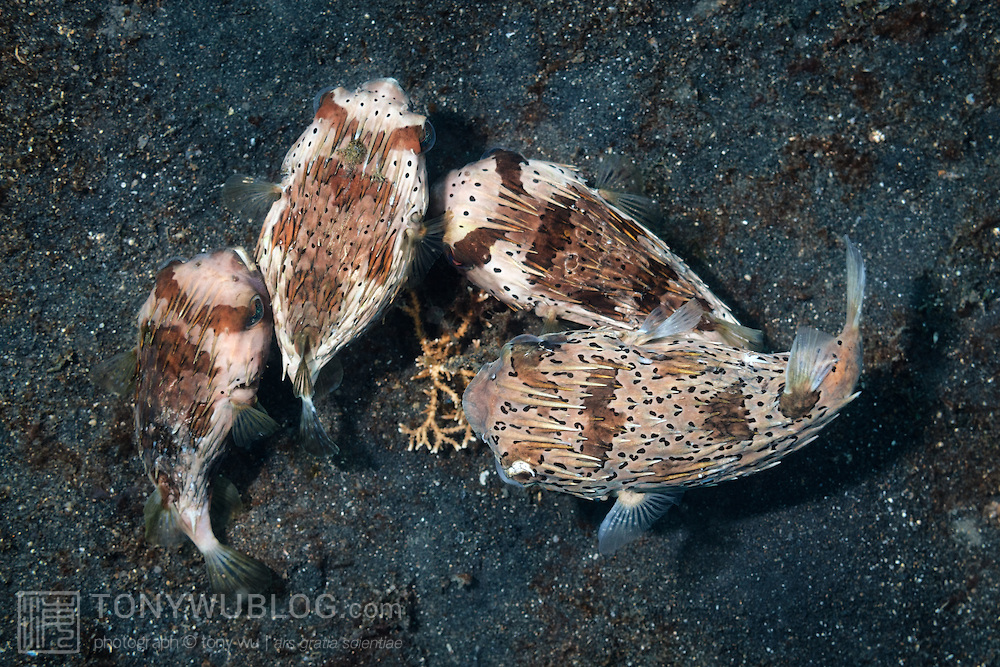Diodon_holocanthus: (455, 316, 946, 557), (252, 71, 435, 420), (443, 145, 779, 329), (119, 250, 286, 607)
